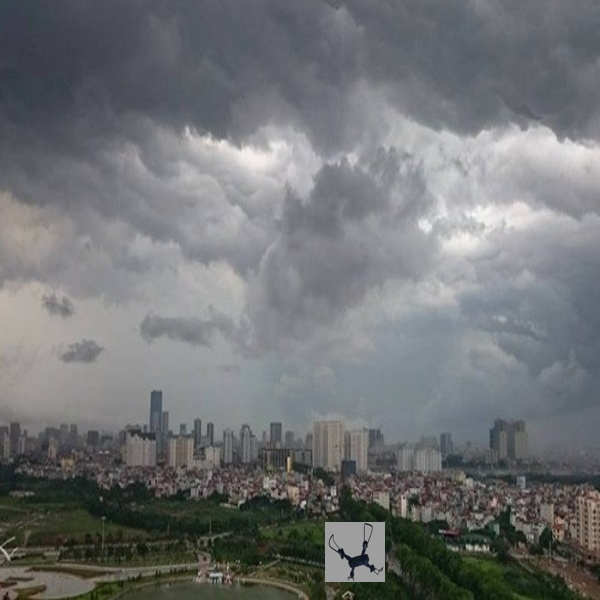drone: (326, 519, 387, 576)
